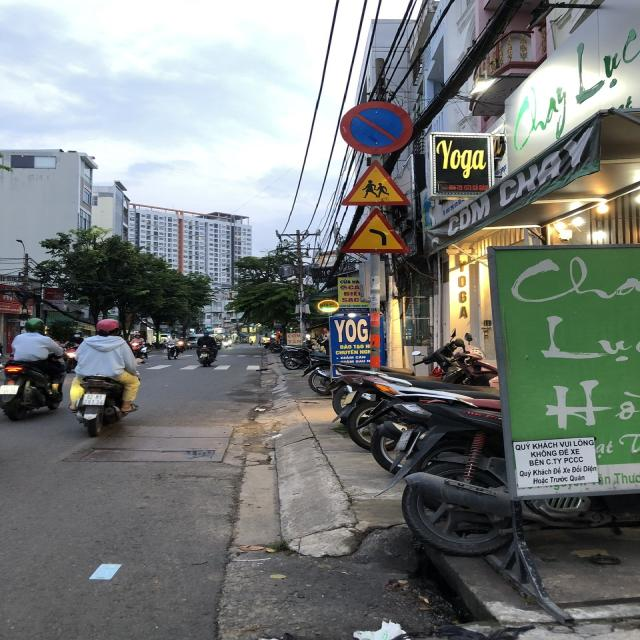Bien bao cam do xe: (334, 99, 418, 157)
Bien bao cho ngoat nguy hiem: (336, 207, 415, 259)
Bien bao tre em: (332, 156, 419, 208)
